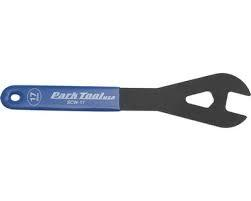wrench: (0, 70, 249, 128)
